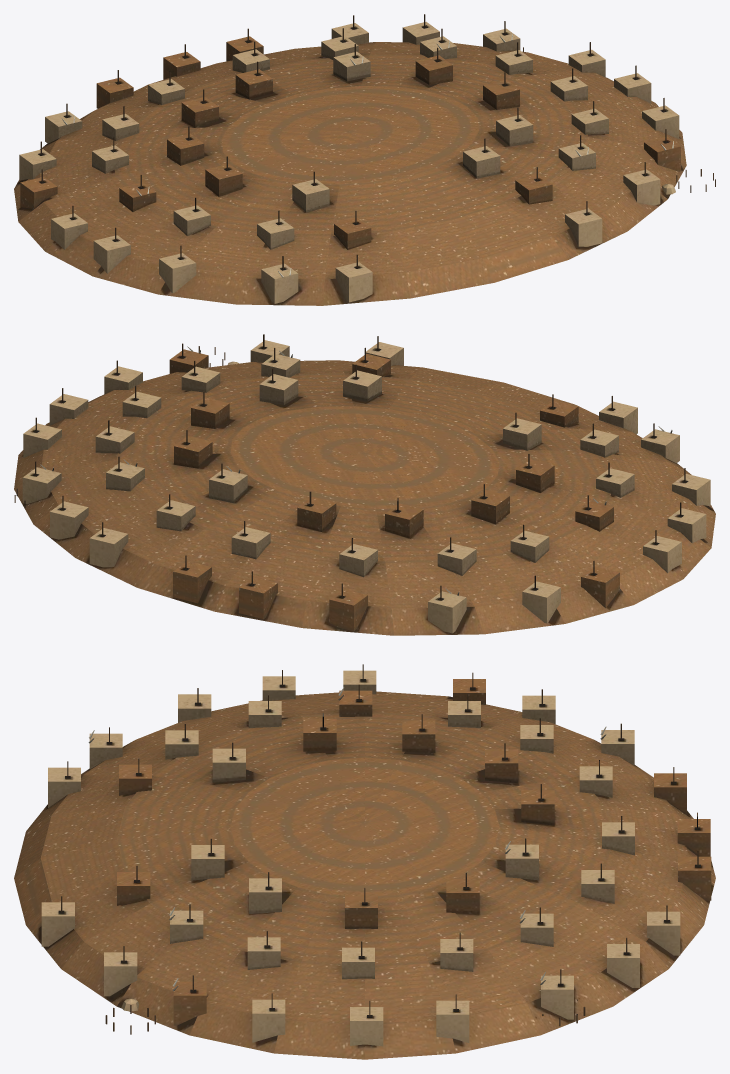
File: catalhoyuk.glb
The picture shows the model from 3 angles, top to bottom: view 1: azimuth 30°, elevation 25°; view 2: azimuth 150°, elevation 25°; view 3: azimuth 270°, elevation 25°; orthographic projection. The views are drawn at different scales.
Visible parts, largest first — view 1: LOD0.001; view 2: LOD0.001; view 3: LOD0.001.
Boxes of the visible parts, x1,y1,x2,y2 form: LOD0.001: (14, 14, 686, 305); LOD0.001: (14, 334, 715, 635); LOD0.001: (14, 664, 715, 1059).
Size of what is drawn, in the model's own units: 8.8 by 0.9298 by 7.2.
Materials: 1 (1 with a texture image).
